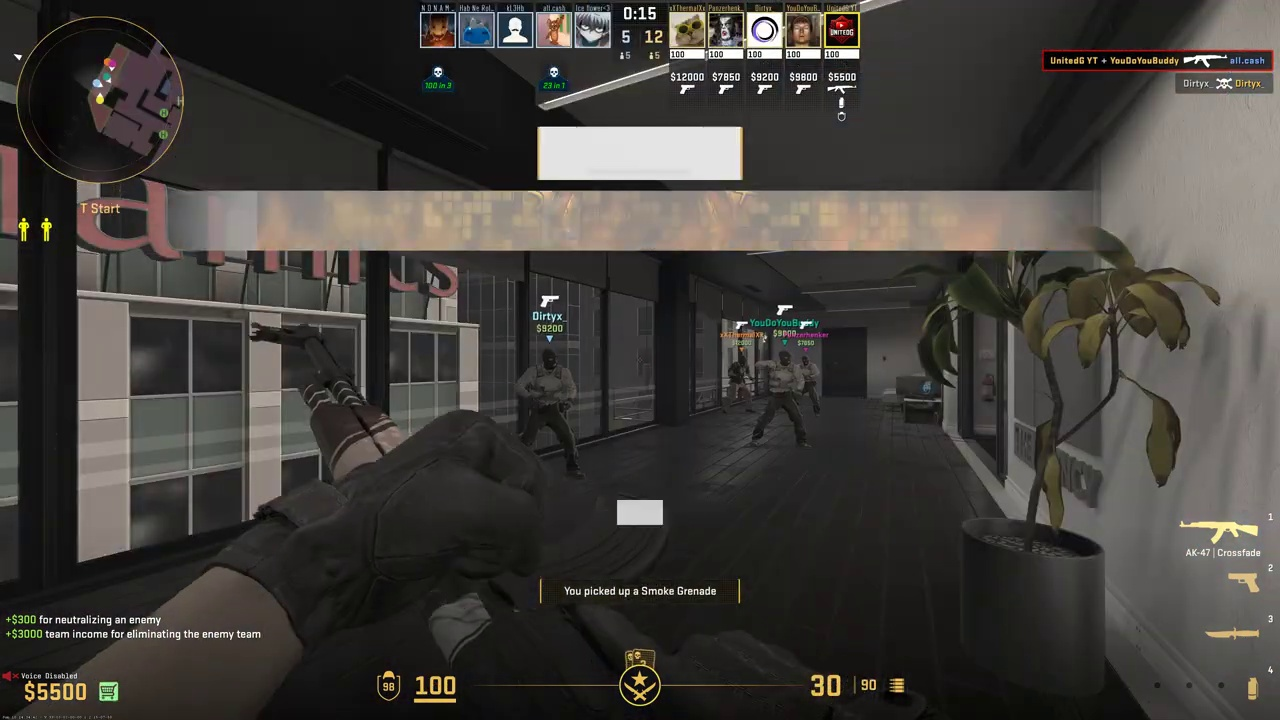Terrorist: (522, 349, 579, 479), (755, 350, 807, 447), (727, 355, 752, 412), (799, 355, 820, 412)
